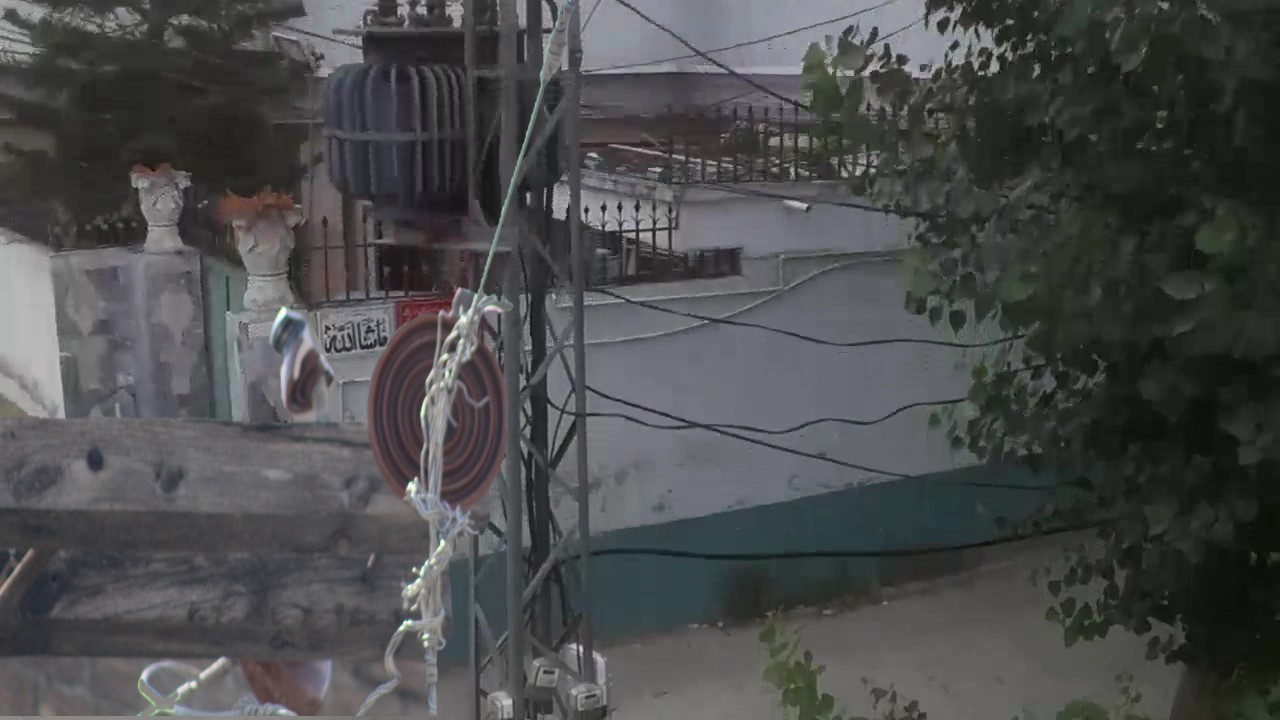defect_pin: (264, 298, 340, 425)
insulator_disc: (367, 311, 514, 522)
